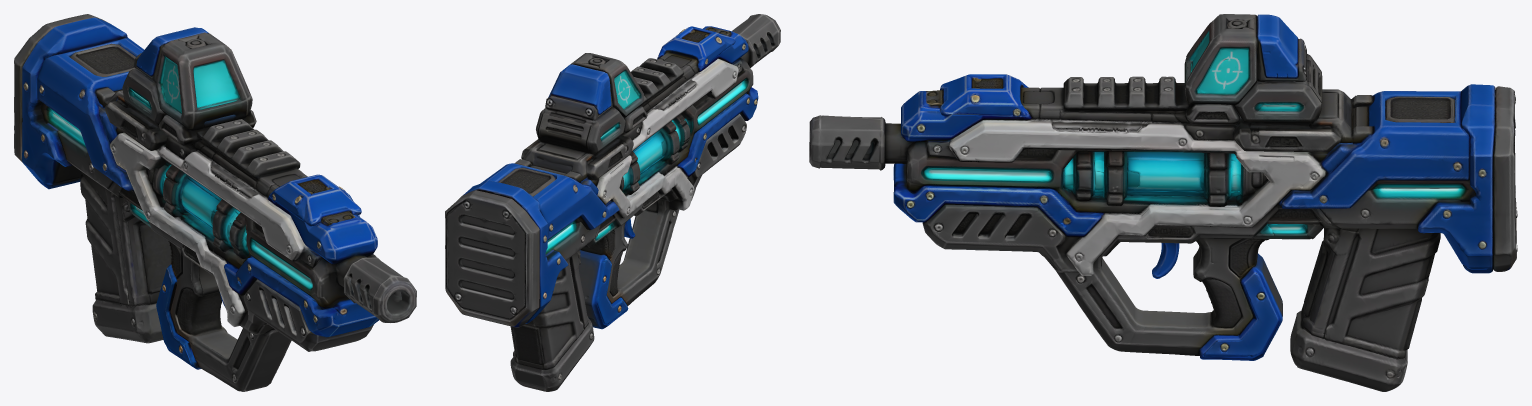
The model's file is rifle_detail.glb.
3 renders of one model, left to right at view 1: azimuth 30°, elevation 25°; view 2: azimuth 150°, elevation 25°; view 3: azimuth 270°, elevation 25°, orthographic. The views are drawn at different scales.
Visible parts, largest first — view 1: tripo_node_910a13a9-a0b5-4eea-ae1d-ba5a944b06e9; view 2: tripo_node_910a13a9-a0b5-4eea-ae1d-ba5a944b06e9; view 3: tripo_node_910a13a9-a0b5-4eea-ae1d-ba5a944b06e9.
Part boxes in pixels (x1,y1,x2,y2): tripo_node_910a13a9-a0b5-4eea-ae1d-ba5a944b06e9: [14, 14, 416, 391]; tripo_node_910a13a9-a0b5-4eea-ae1d-ba5a944b06e9: [445, 14, 780, 391]; tripo_node_910a13a9-a0b5-4eea-ae1d-ba5a944b06e9: [809, 14, 1517, 391].
Bounding box in the file's own units: 0.1851 × 0.549 × 0.9784.
Materials: 1 (1 with a texture image).
